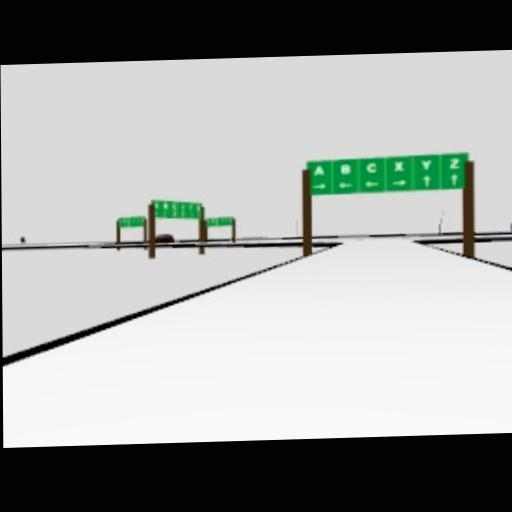A: (313, 163, 326, 176)
B: (340, 162, 353, 175)
C: (365, 161, 377, 173)
Left: (337, 179, 353, 189), (363, 178, 379, 188)
Right: (391, 177, 408, 187), (312, 181, 326, 190)
Straight: (422, 173, 432, 188), (450, 172, 459, 187)
X: (393, 159, 405, 172)
Y: (421, 158, 432, 171)
Z: (449, 156, 461, 169)
